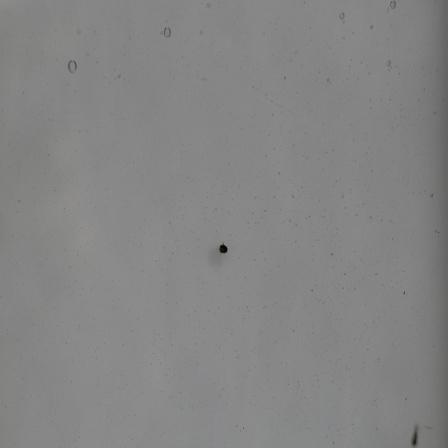Jentik-Nyamuk: (214, 239, 231, 258)
